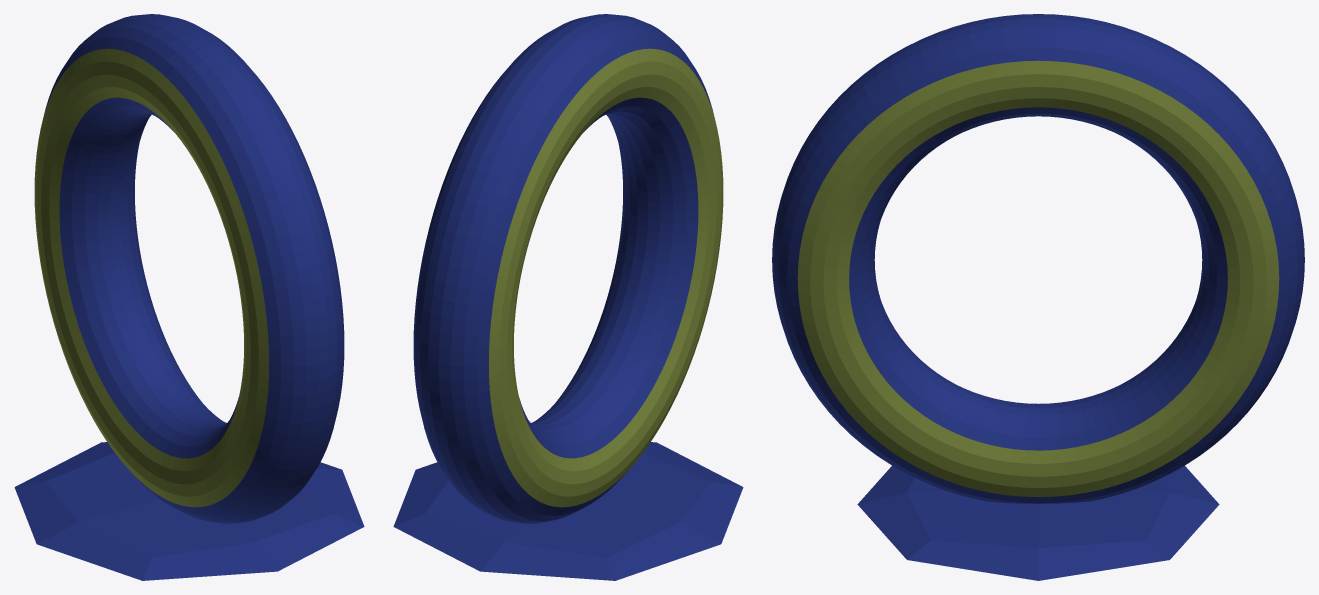
File: portal.fbx
The picture shows the model from 3 angles, left to right: view 1: azimuth 30°, elevation 25°; view 2: azimuth 150°, elevation 25°; view 3: azimuth 270°, elevation 25°; orthographic projection. The views are drawn at different scales.
Parts seen in each view (by area): view 1: Torus; view 2: Torus; view 3: Torus.
Boxes of the visible parts, <box> form: Torus: <box>14,14,364,580</box>; Torus: <box>393,14,743,580</box>; Torus: <box>772,14,1304,580</box>.
Size of the model in its own units: 168 by 257 by 247.
